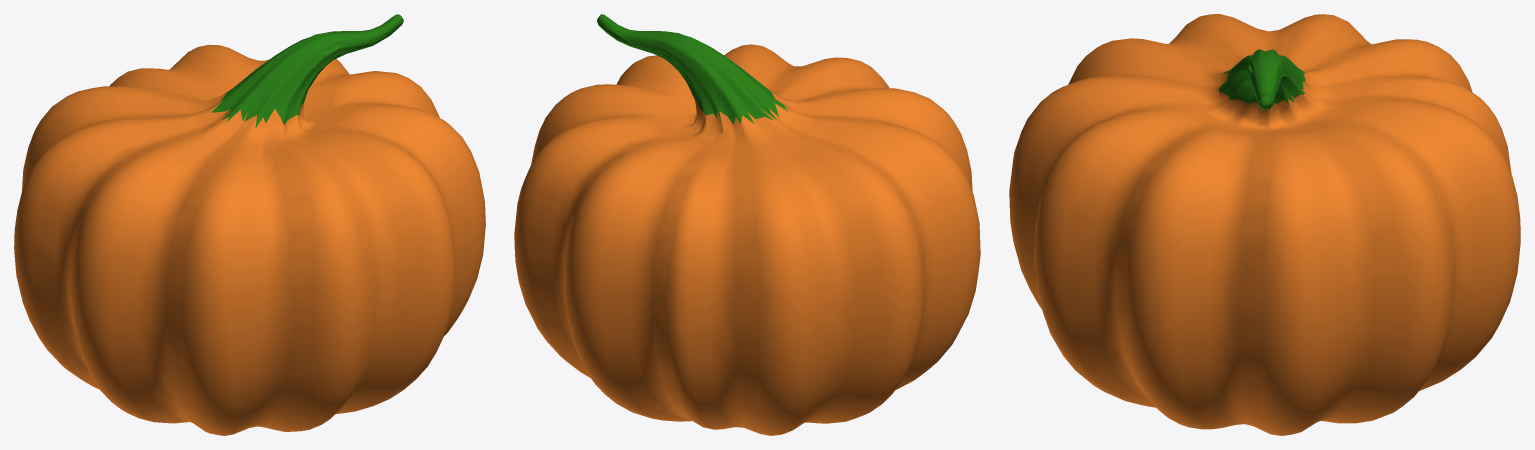
The model's file is pumpkin_textured.obj.
3 views of the same model, side by side, from view 1: azimuth 30°, elevation 25°; view 2: azimuth 150°, elevation 25°; view 3: azimuth 270°, elevation 25° (orthographic). The views are drawn at different scales.
Visible parts, largest first — view 1: Sphere; view 2: Sphere; view 3: Sphere.
Boxes of the visible parts, x1=… form: Sphere: x1=14, y1=14, x2=485, y2=435; Sphere: x1=514, y1=14, x2=980, y2=435; Sphere: x1=1009, y1=14, x2=1520, y2=435.
Size of the model in its own units: 1.92 by 1.58 by 1.92.
Materials: 2 (2 with a texture image).
